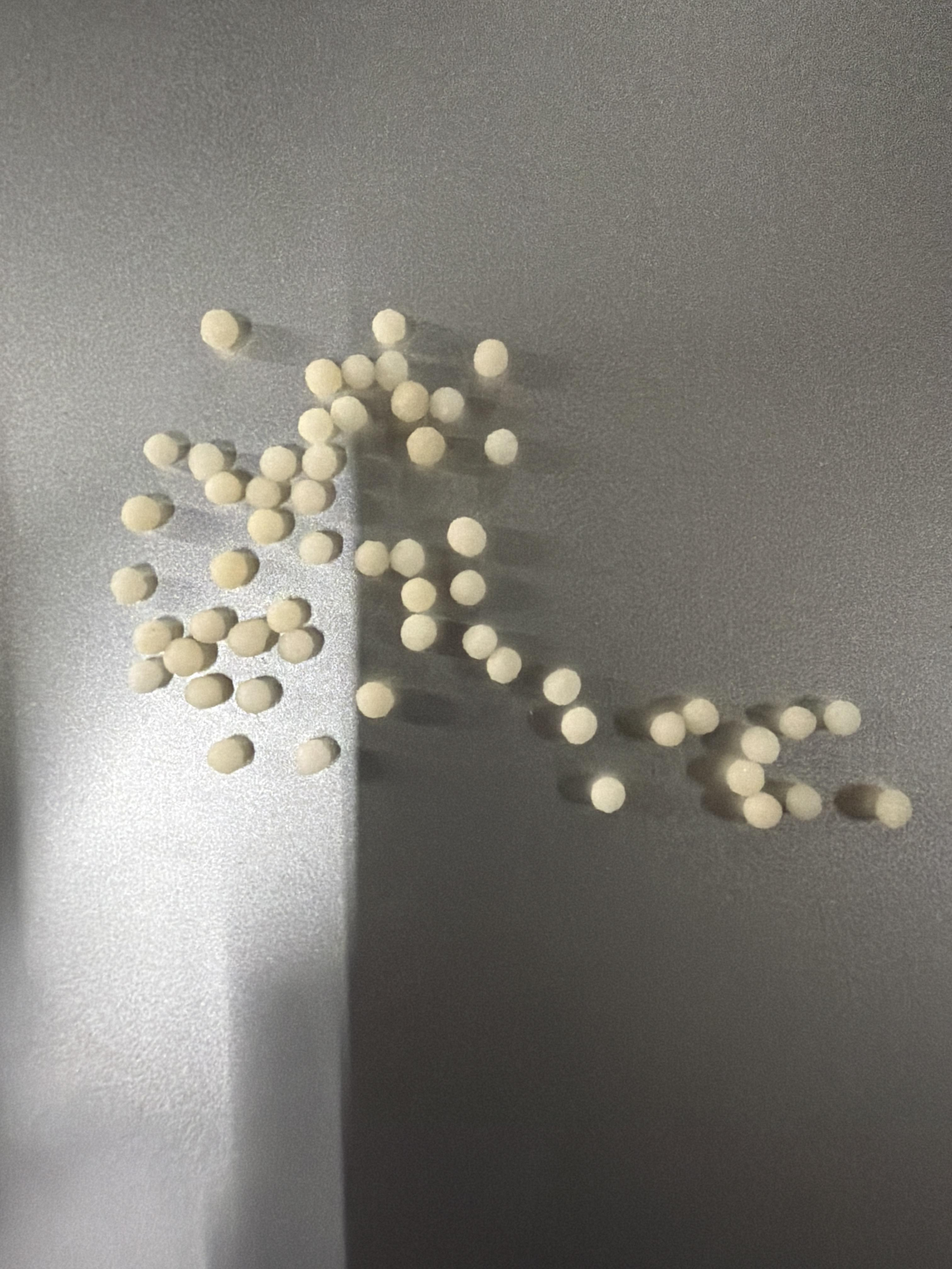pill: (162, 636, 217, 677), (121, 495, 174, 533), (132, 617, 183, 656), (210, 549, 259, 589), (110, 564, 157, 605), (226, 618, 274, 657), (188, 442, 234, 482), (207, 735, 253, 774), (200, 309, 242, 351), (235, 676, 281, 714), (189, 607, 237, 643), (390, 379, 429, 423), (277, 627, 323, 664), (184, 674, 232, 709), (295, 737, 339, 775), (127, 656, 172, 693), (143, 432, 188, 469), (247, 509, 294, 544), (406, 426, 446, 466), (724, 758, 765, 797), (447, 516, 486, 557), (302, 443, 344, 481), (265, 598, 310, 633), (874, 788, 912, 829), (290, 478, 332, 515), (782, 782, 821, 821), (542, 668, 581, 707), (739, 726, 779, 764), (355, 681, 395, 719), (742, 792, 783, 829), (204, 470, 247, 505), (400, 612, 438, 651), (330, 395, 369, 433), (305, 359, 343, 398), (259, 445, 299, 482), (775, 705, 817, 740), (375, 349, 409, 392), (245, 475, 288, 509), (681, 697, 719, 735), (560, 705, 597, 744), (298, 531, 340, 565), (822, 700, 861, 736), (389, 539, 425, 578), (649, 710, 686, 747), (590, 776, 626, 813), (486, 647, 522, 684), (450, 569, 486, 606), (429, 387, 465, 424), (298, 407, 334, 444), (473, 339, 508, 377), (371, 308, 406, 346), (462, 624, 498, 660), (354, 540, 389, 577), (401, 576, 436, 612), (484, 428, 518, 465), (341, 354, 375, 390)
